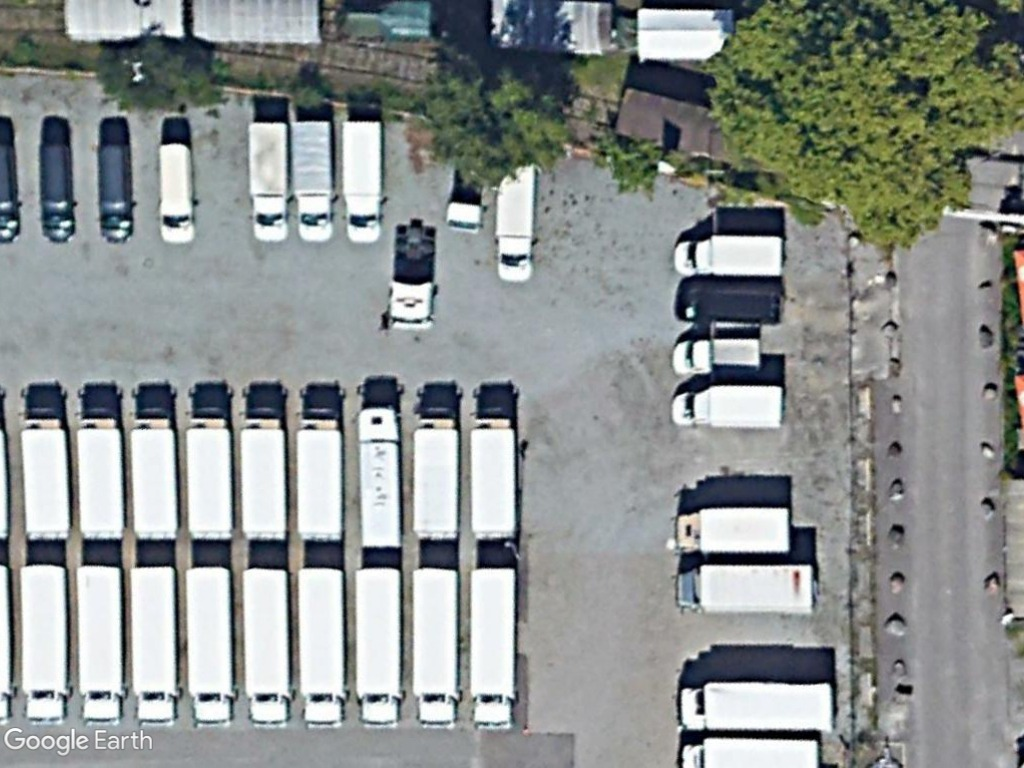truck: (70, 562, 127, 727), (350, 562, 406, 729), (464, 560, 519, 730), (675, 678, 836, 736), (293, 561, 347, 731), (182, 562, 236, 732), (14, 562, 69, 728), (237, 563, 292, 728), (125, 563, 180, 728), (409, 564, 461, 732), (673, 560, 819, 616), (130, 396, 181, 544), (239, 394, 290, 542), (19, 401, 72, 543), (294, 391, 343, 543), (75, 397, 126, 543), (355, 405, 404, 554), (185, 399, 235, 543), (411, 402, 461, 546), (468, 405, 518, 548), (336, 116, 385, 245), (673, 505, 792, 557), (287, 115, 334, 243), (246, 119, 292, 244), (670, 382, 785, 431), (674, 232, 787, 280), (672, 336, 764, 378)
van: (156, 141, 200, 246), (36, 140, 79, 244), (96, 140, 137, 247)
